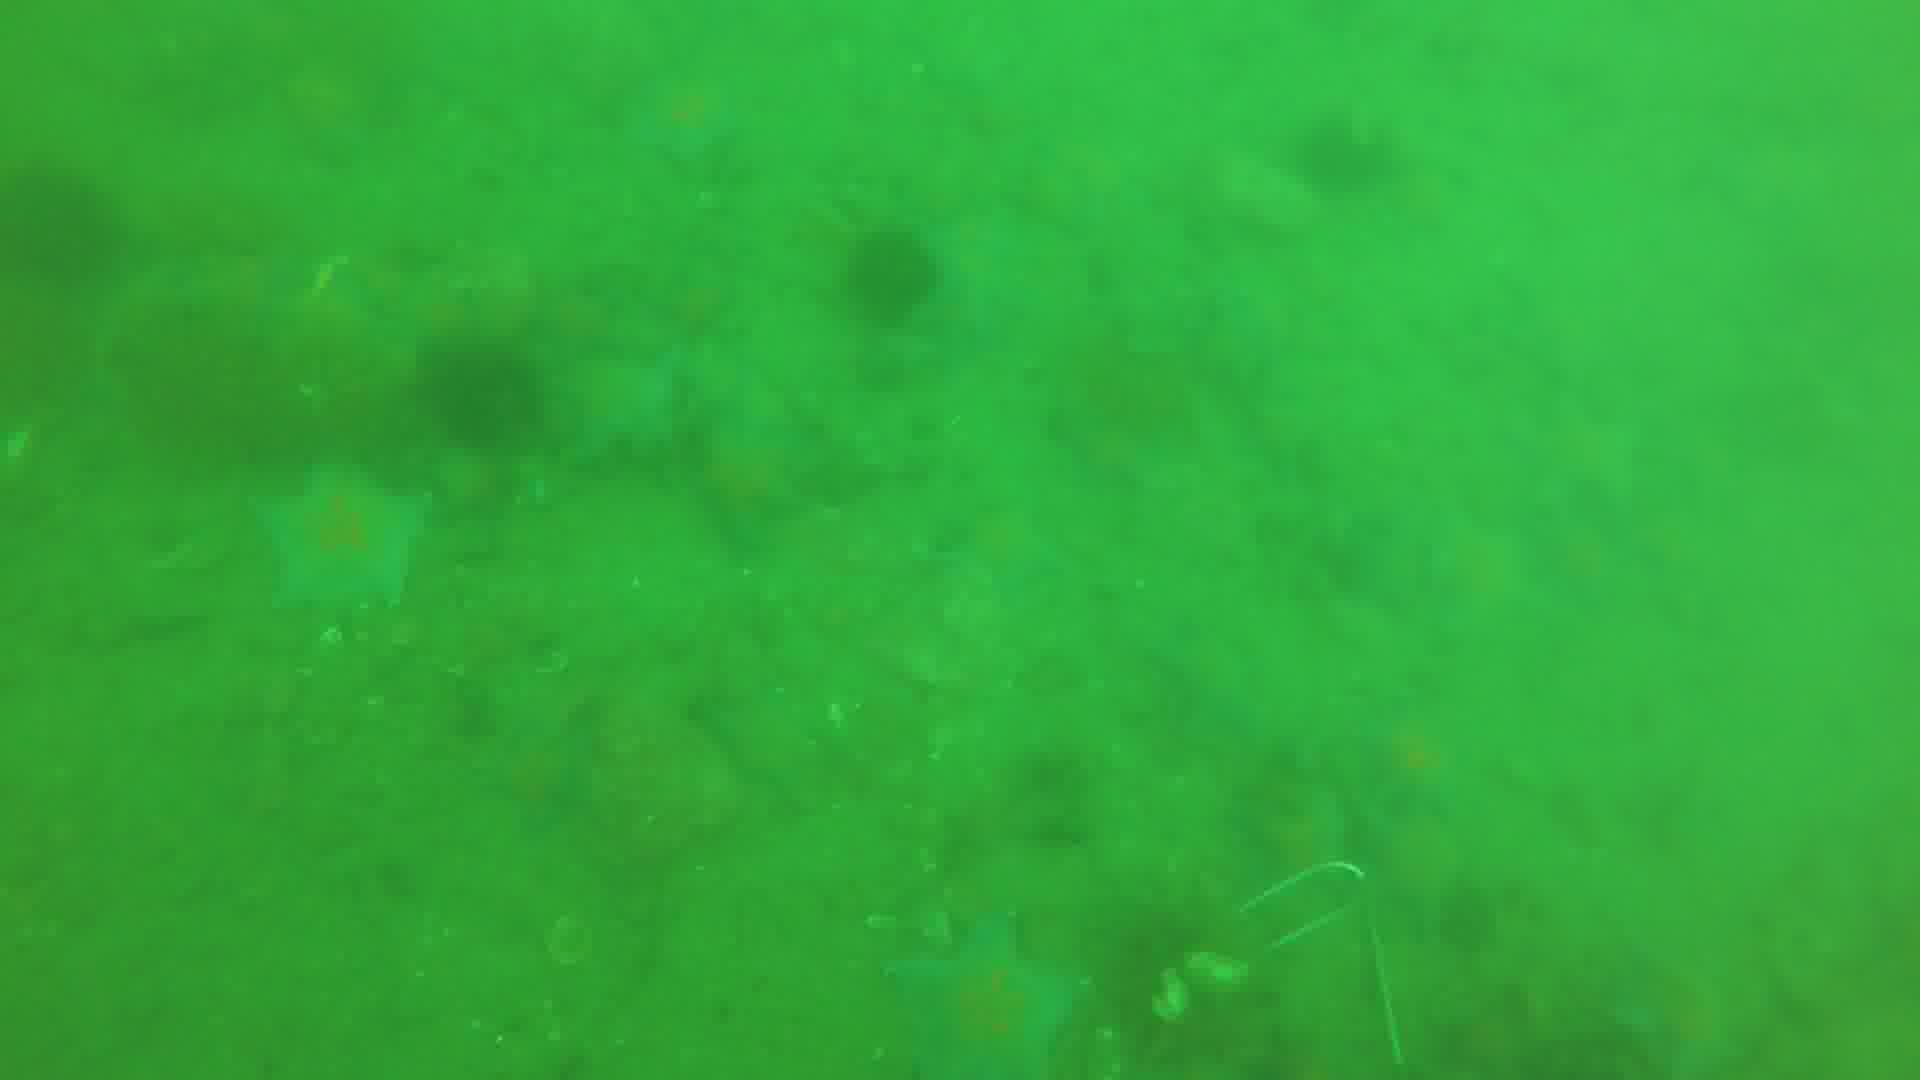echinus: (1, 165, 125, 281), (429, 348, 537, 444), (848, 225, 943, 331), (1308, 107, 1393, 187)
scallop: (541, 918, 600, 965), (1182, 951, 1247, 990), (1139, 978, 1199, 1021)
starfish: (872, 914, 1098, 1080), (240, 465, 429, 611), (1143, 621, 1279, 737), (696, 400, 793, 549), (1598, 975, 1730, 1080), (621, 71, 738, 175), (568, 357, 659, 473), (948, 500, 1059, 592), (1361, 705, 1458, 808)
